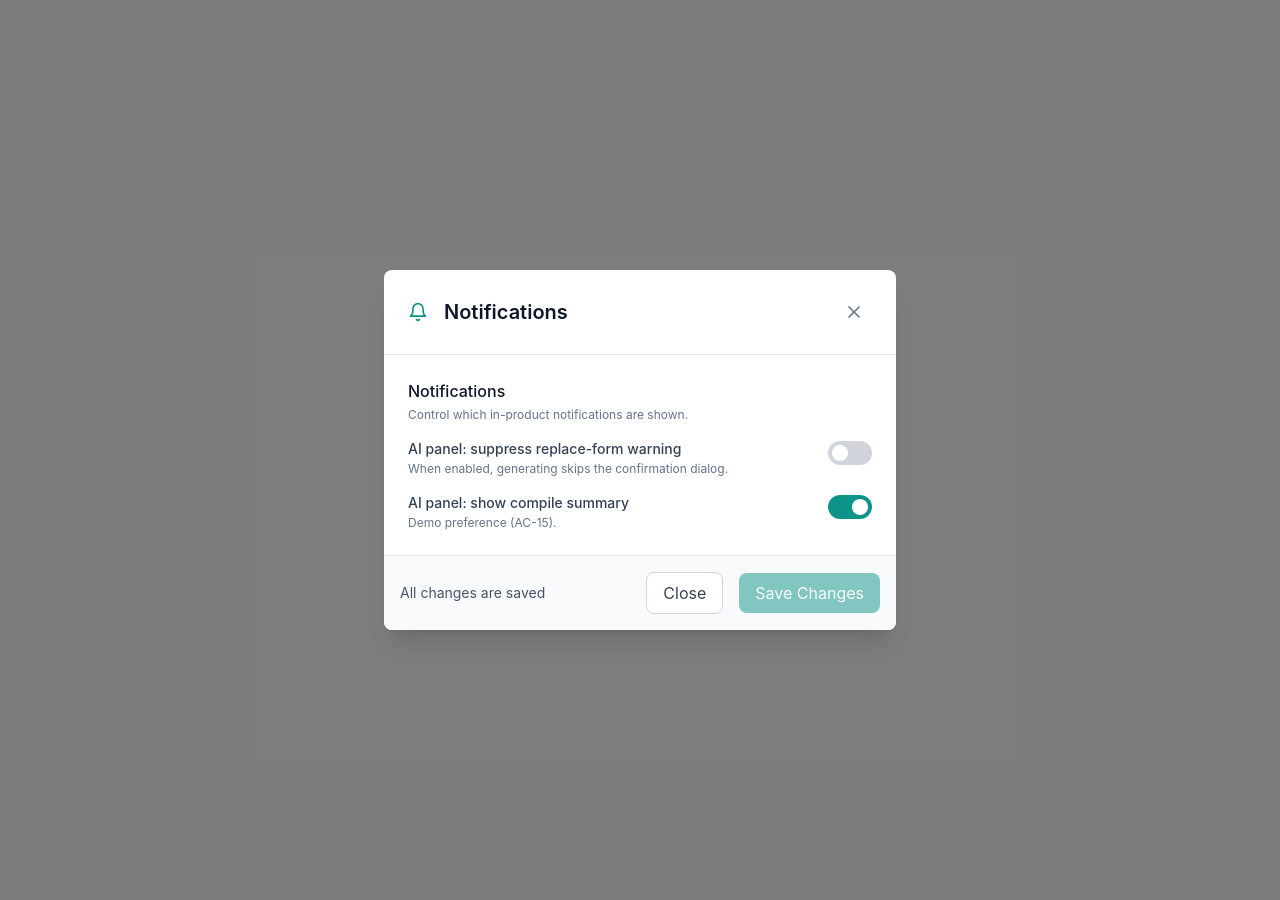
Test: NotificationsSettingsPopup › clicking toggle stages a local change
Click the switch named "AI panel: suppress replace-form warning" at (850, 453), box [828,441,872,465]
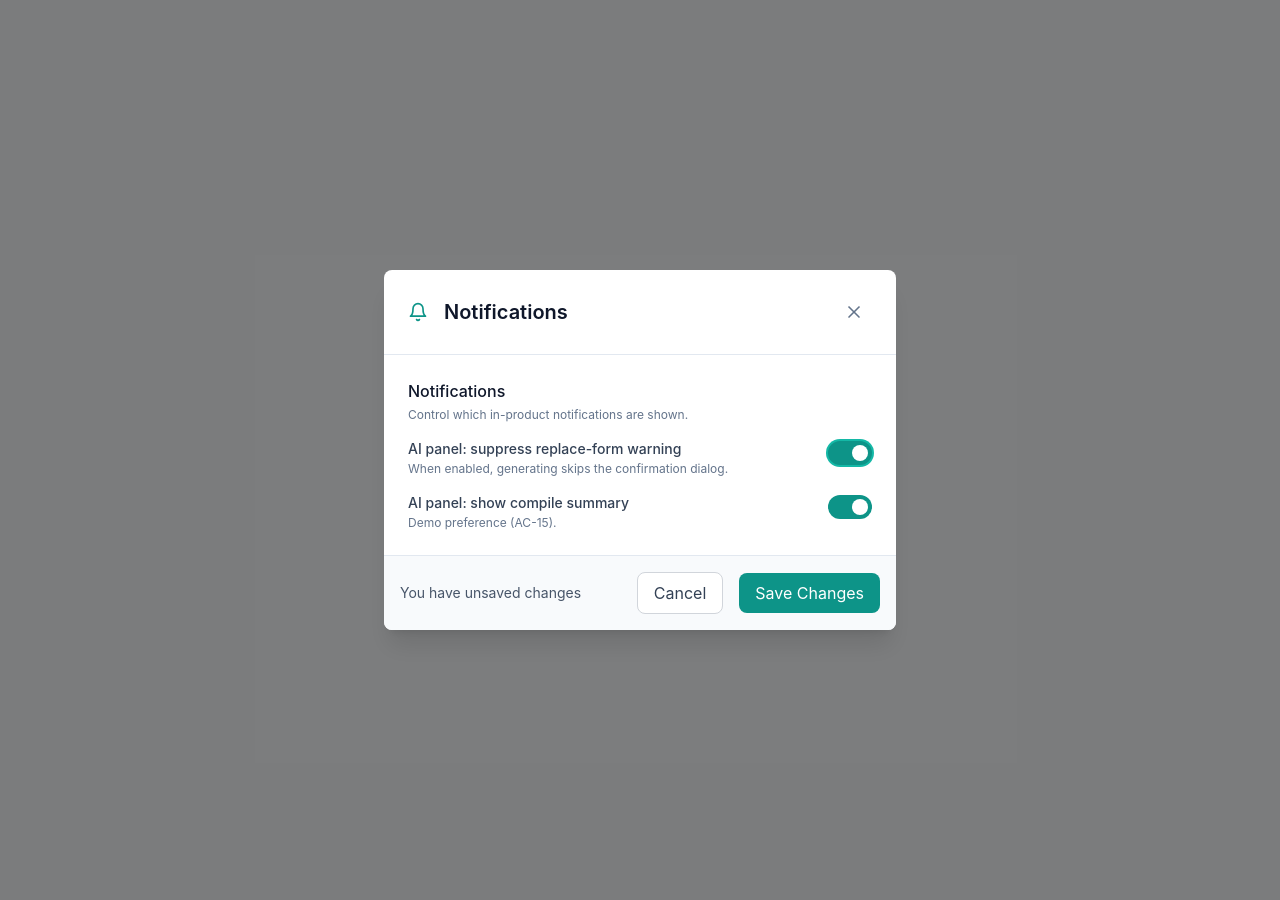
Expected: the text "You have unsaved changes" is shown, [400,583,581,603]
